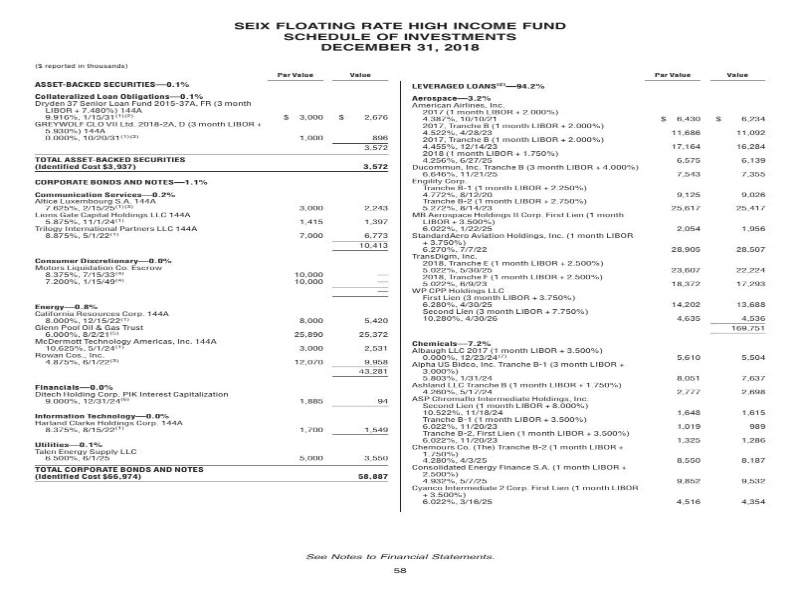table: (388, 63, 792, 516), (16, 58, 407, 520)
